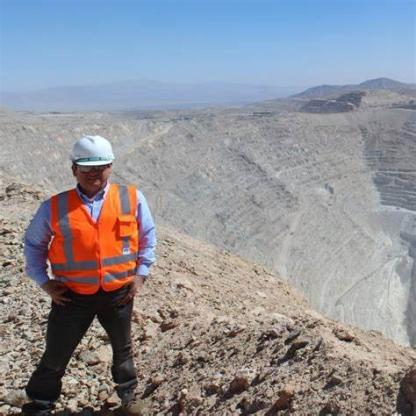person: (20, 126, 156, 415)
